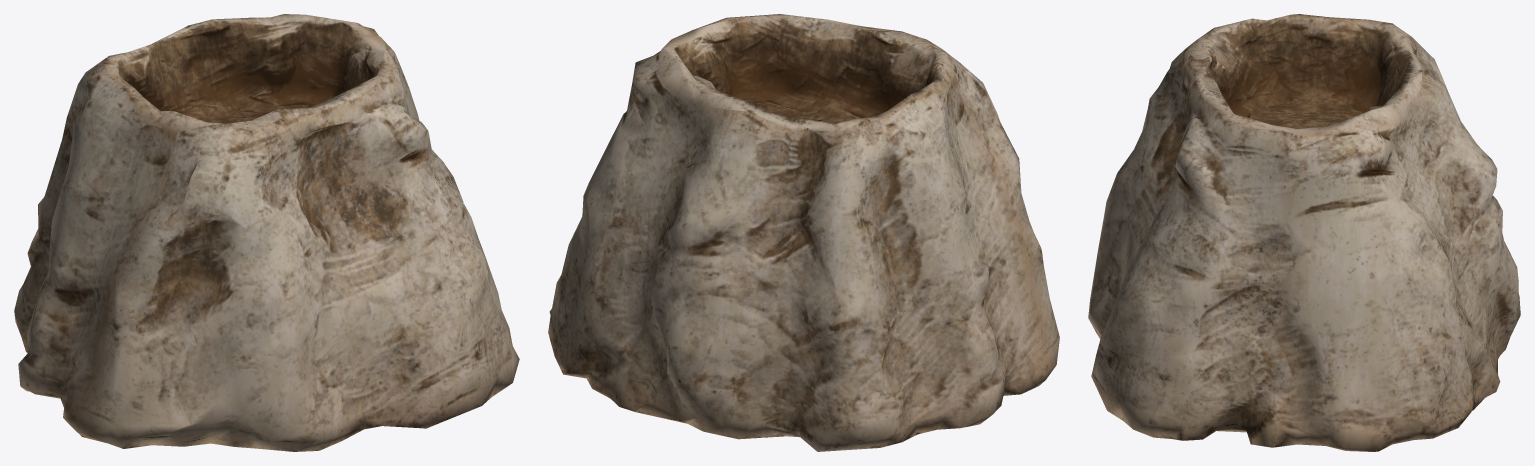
File: SM_Mollusk02.gltf
The picture shows the model from 3 angles, left to right: view 1: azimuth 30°, elevation 25°; view 2: azimuth 150°, elevation 25°; view 3: azimuth 270°, elevation 25°; orthographic projection. The views are drawn at different scales.
Parts seen in each view (by area): view 1: SM_Mollusk02; view 2: SM_Mollusk02; view 3: SM_Mollusk02.
Part boxes in pixels (box(x1,y1,x2,y2)): SM_Mollusk02: box(14, 14, 519, 451); SM_Mollusk02: box(548, 14, 1059, 451); SM_Mollusk02: box(1088, 14, 1520, 451).
Size of the model in its own units: 0.8395 by 0.5615 by 0.7575.
Materials: 1 (1 with a texture image).
